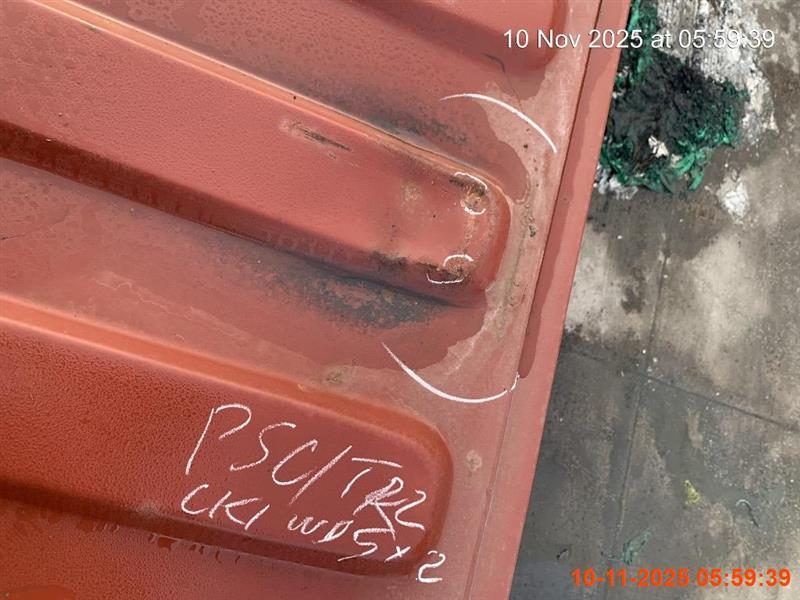crack: (2, 1, 633, 597)
